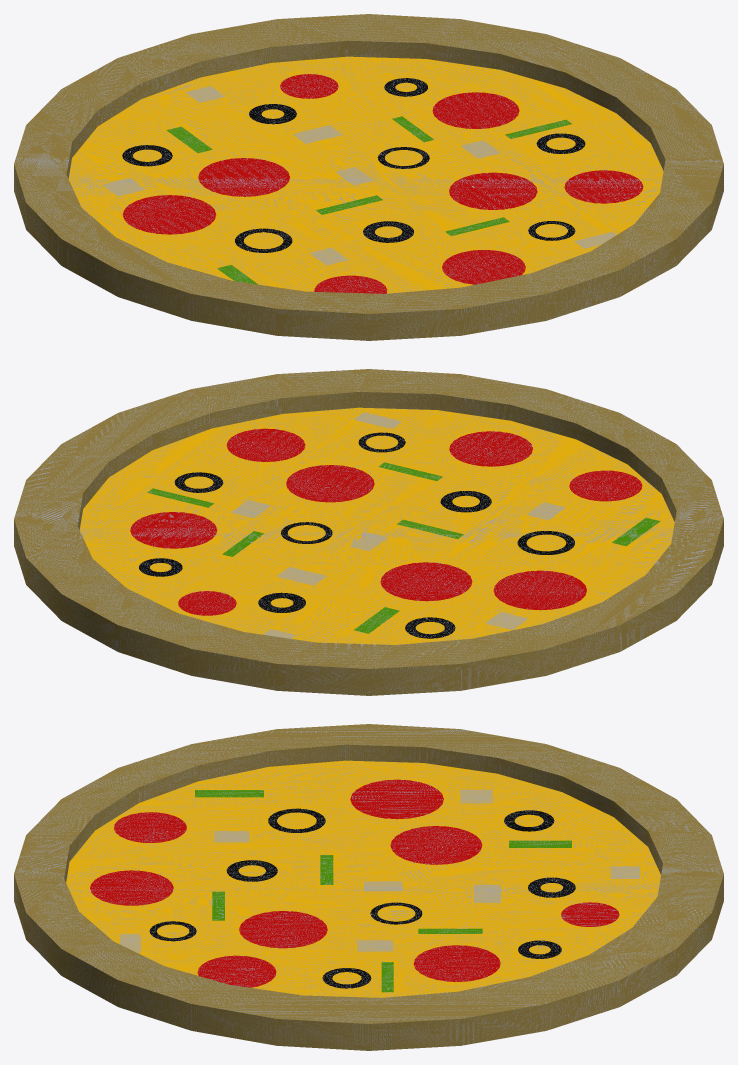
File: pizza.dae
3 views of the same model, one above another, from view 1: azimuth 30°, elevation 25°; view 2: azimuth 150°, elevation 25°; view 3: azimuth 270°, elevation 25° (orthographic).
Visible parts, largest first — view 1: SketchUp (×18); view 2: SketchUp (×19); view 3: SketchUp (×19).
Part boxes in pixels (x1=…): SketchUp (×18): x1=14, y1=14, x2=723, y2=340; SketchUp (×19): x1=14, y1=369, x2=723, y2=695; SketchUp (×19): x1=14, y1=724, x2=723, y2=1050.
Bounding box in the file's own units: 436 × 436 × 18.25.
